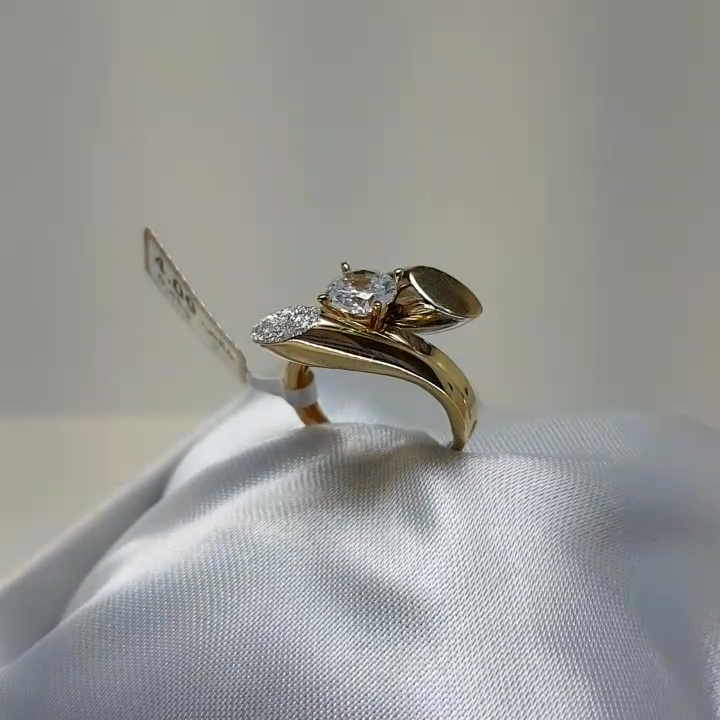Ring 7: (233, 251, 515, 474)
